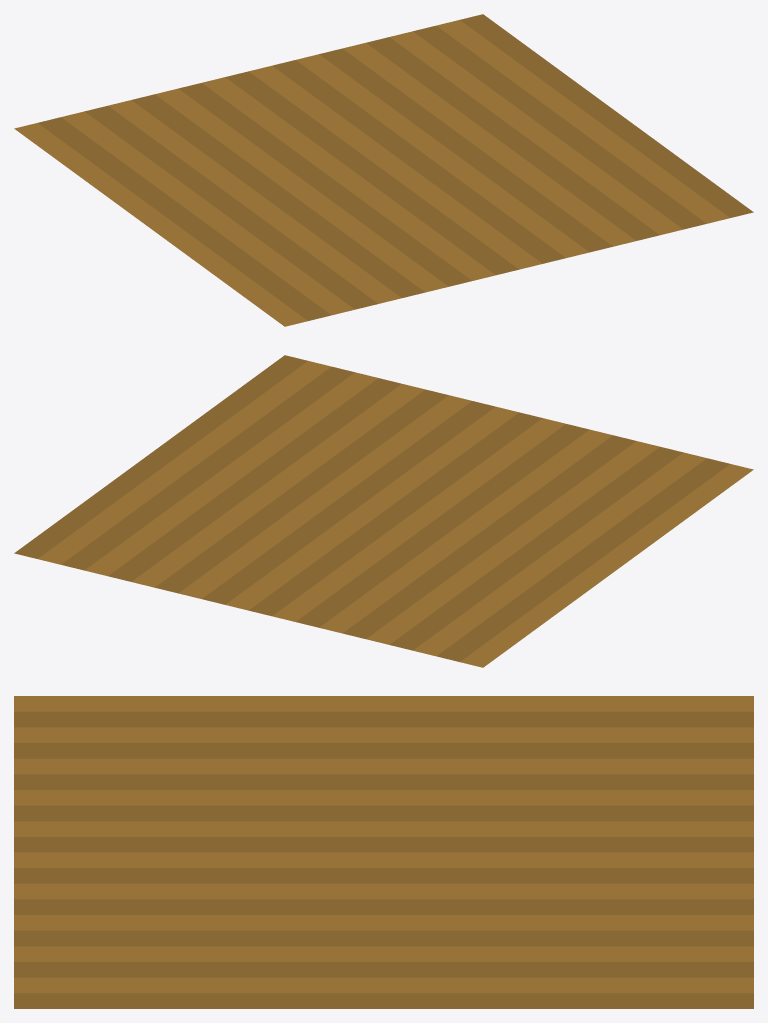
File: plancher.fbx
3 views of the same model, one above another, from view 1: azimuth 30°, elevation 25°; view 2: azimuth 150°, elevation 25°; view 3: azimuth 270°, elevation 25° (orthographic). The views are drawn at different scales.
Visible parts, largest first — view 1: pPlane1; view 2: pPlane1; view 3: pPlane1.
Part boxes in pixels (box(x1,y1,x2,y2)): pPlane1: box(14, 14, 753, 326); pPlane1: box(14, 355, 753, 667); pPlane1: box(14, 696, 753, 1008).
Bounding box in the file's own units: 1 × 0 × 1.
